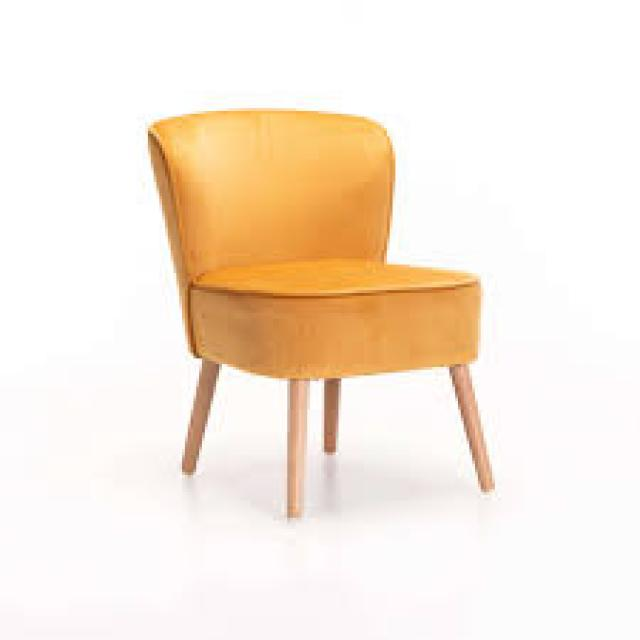chair: (92, 88, 529, 575)
